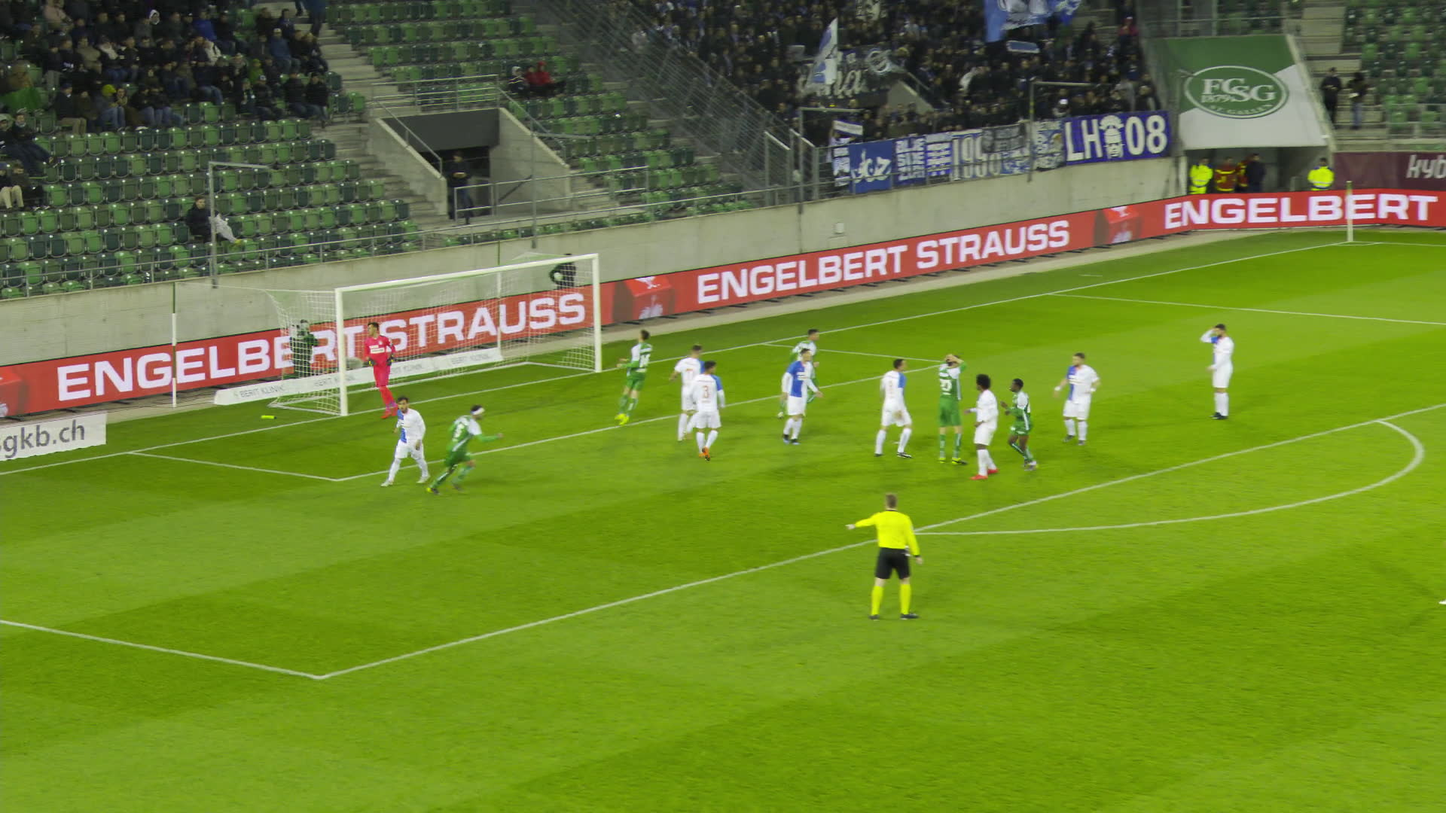player: (426, 405, 500, 496), (380, 394, 430, 486), (1049, 352, 1098, 445), (871, 357, 913, 458), (661, 344, 704, 440), (779, 348, 821, 445), (609, 330, 651, 426), (932, 353, 968, 464), (773, 330, 818, 417), (999, 378, 1039, 470), (687, 361, 724, 459), (962, 373, 996, 479), (1197, 323, 1231, 419), (365, 324, 400, 416), (1438, 596, 1445, 605)
referee: (837, 492, 923, 620)
